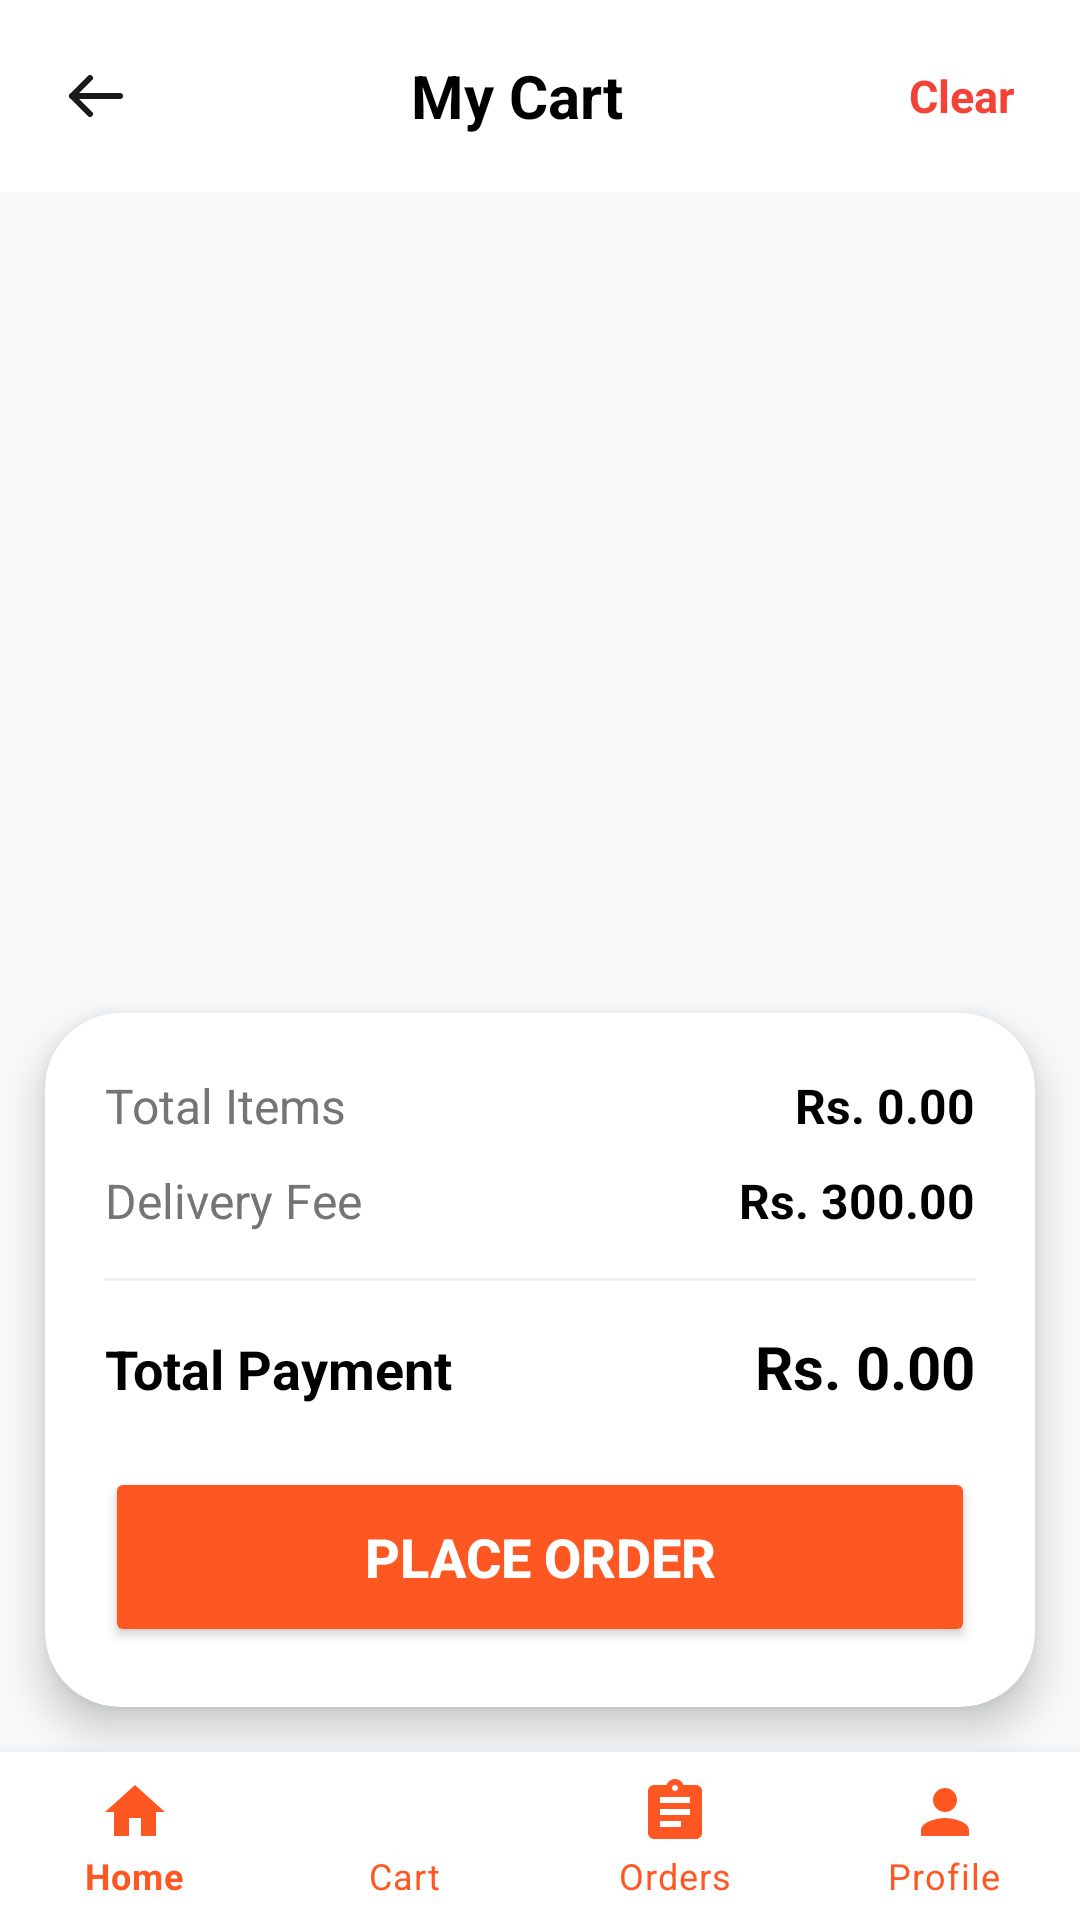

Icons on this 1080px x 1920px Android screen, each with the point to tap as point (x, y):
Back: point (96, 96)
